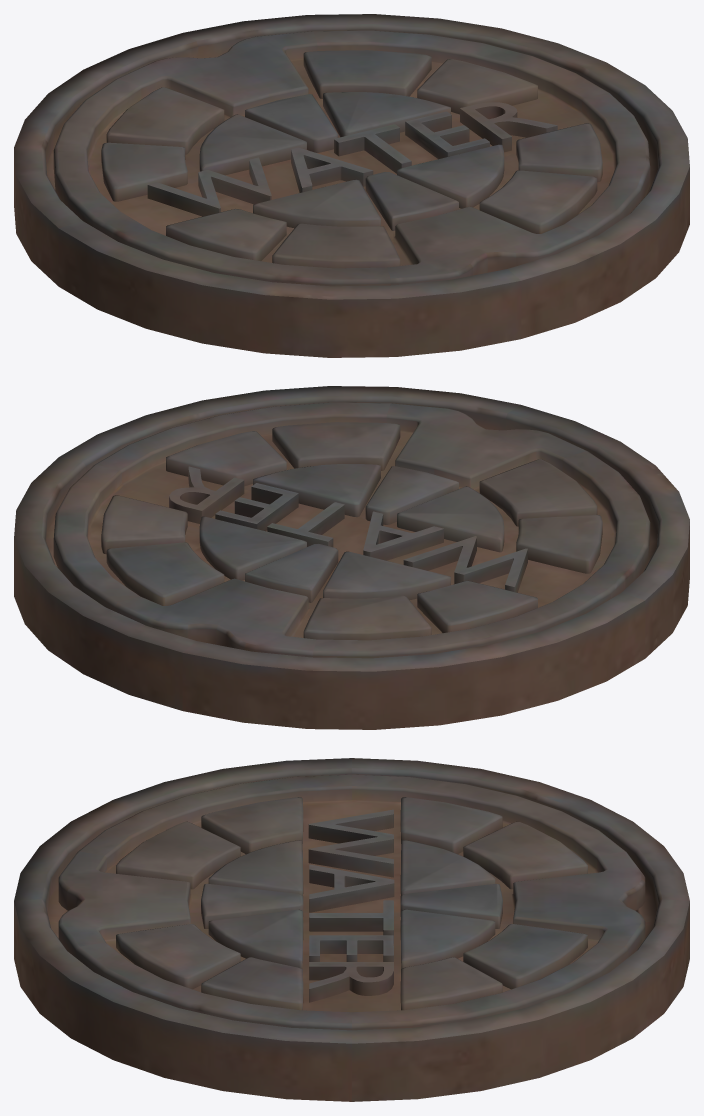
The model's file is water_manhole_cover.glb.
The picture shows the model from 3 angles, top to bottom: view 1: azimuth 30°, elevation 25°; view 2: azimuth 150°, elevation 25°; view 3: azimuth 270°, elevation 25°; orthographic projection.
Visible parts, largest first — view 1: water_manhole_cover, water_manhole_cover_frame; view 2: water_manhole_cover, water_manhole_cover_frame; view 3: water_manhole_cover, water_manhole_cover_frame.
Boxes of the visible parts, x1,y1,x2,y2 form: water_manhole_cover: (53, 30, 650, 286); water_manhole_cover_frame: (14, 14, 689, 357); water_manhole_cover: (53, 402, 650, 658); water_manhole_cover_frame: (14, 386, 689, 729); water_manhole_cover: (58, 774, 645, 1030); water_manhole_cover_frame: (14, 758, 689, 1101).
Size of the model in its own units: 0.6908 by 0.0676 by 0.6908.
1 material, 1 textured.
